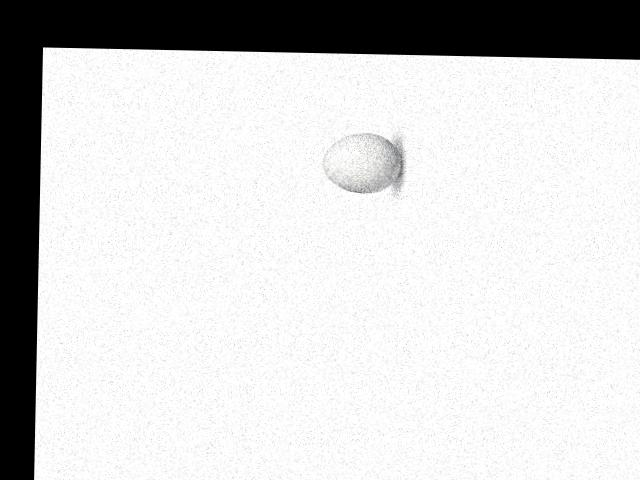egg: (321, 132, 401, 193)
